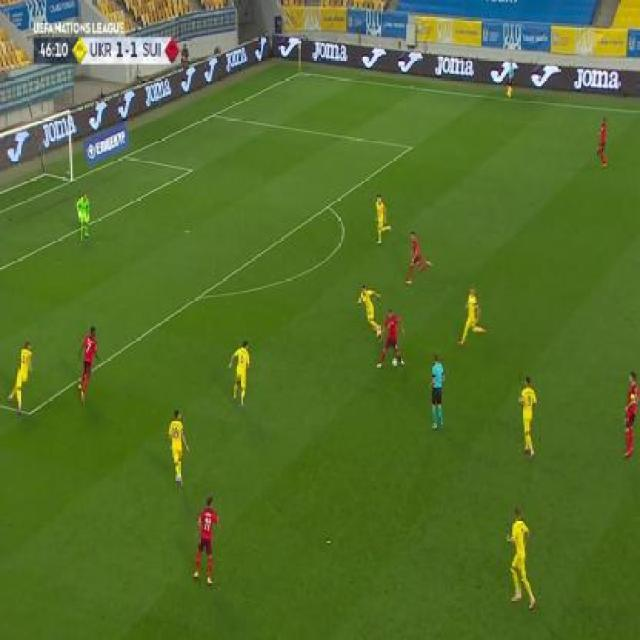ball: (391, 356, 399, 367)
player: (505, 505, 538, 613), (192, 496, 220, 587), (457, 283, 490, 348), (8, 339, 36, 413), (77, 323, 102, 402), (517, 373, 539, 458), (167, 406, 190, 485), (378, 308, 406, 370), (227, 337, 252, 405), (622, 367, 639, 458), (405, 231, 433, 285), (427, 352, 446, 431), (356, 285, 381, 338), (374, 193, 393, 244), (594, 116, 610, 169), (75, 190, 91, 241), (505, 58, 518, 100)
